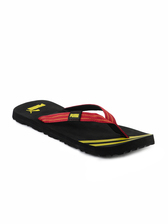shoes: (7, 98, 159, 160)
